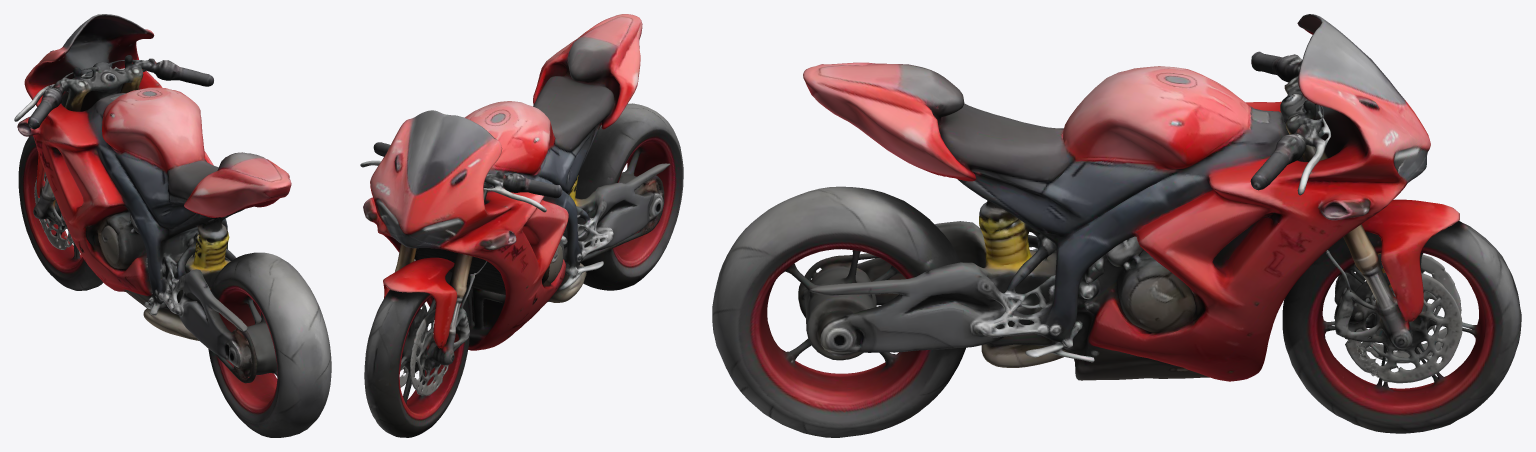
File: bike_paid2.glb
3 renders of one model, left to right at view 1: azimuth 30°, elevation 25°; view 2: azimuth 150°, elevation 25°; view 3: azimuth 270°, elevation 25°, orthographic. The views are drawn at different scales.
Visible parts, largest first — view 1: tripo_node_b8005c0a; view 2: tripo_node_b8005c0a; view 3: tripo_node_b8005c0a.
Boxes of the visible parts, bbox=[...] form: tripo_node_b8005c0a: bbox=[14, 14, 331, 437]; tripo_node_b8005c0a: bbox=[360, 14, 683, 437]; tripo_node_b8005c0a: bbox=[712, 14, 1521, 437].
Bounding box in the file's own units: 0.7783 × 1.17 × 2.1.
Materials: 1 (1 with a texture image).
